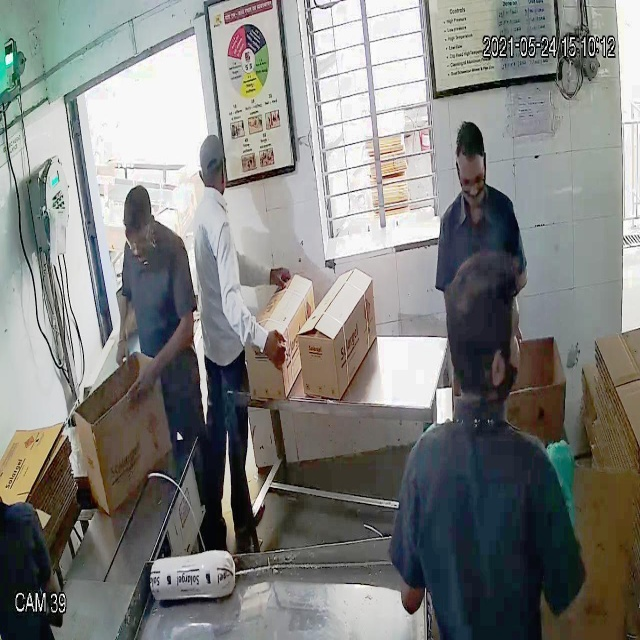Gafas: (458, 160, 486, 197)
